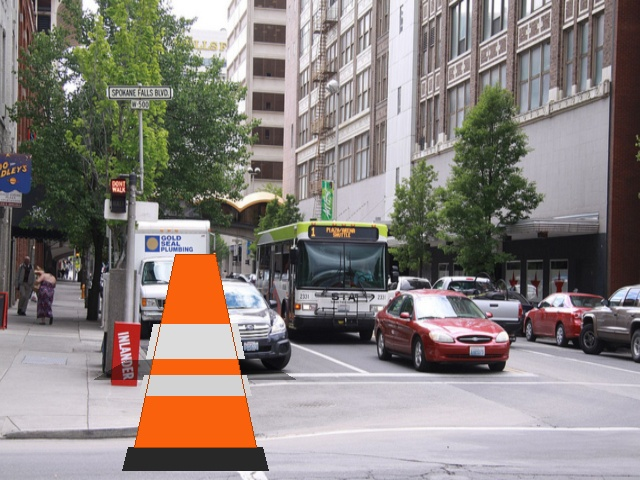traffic-cone: (122, 254, 268, 470)
